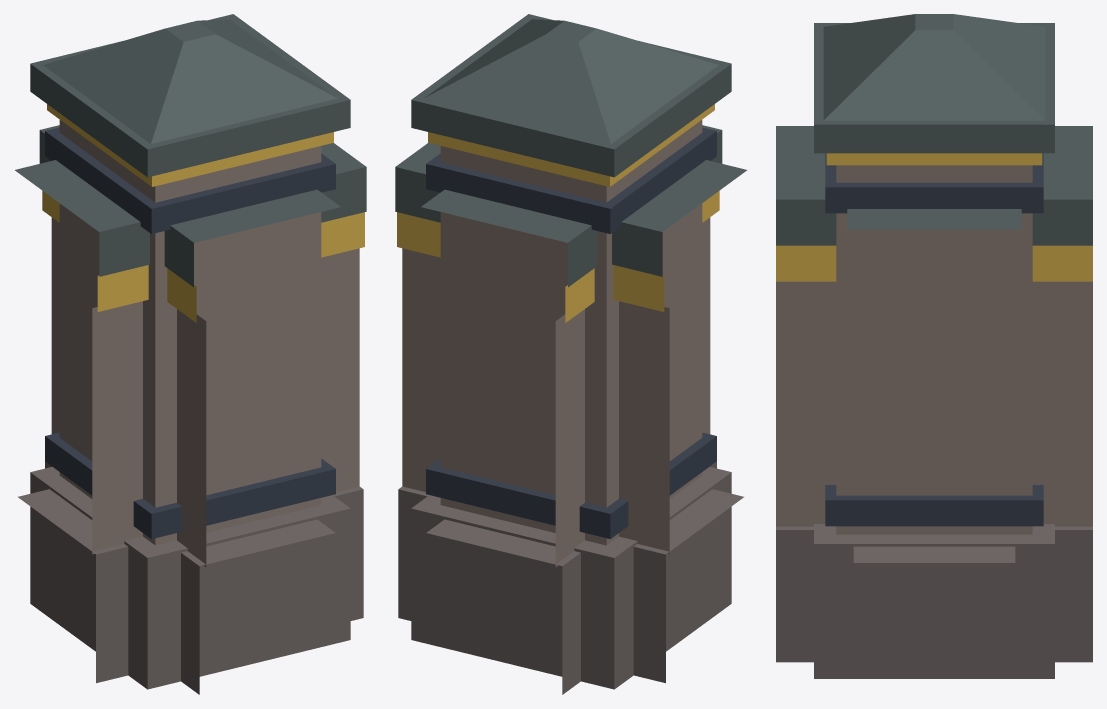
Rendered from stone_wall_cross_low.glb.
3 renders of one model, left to right at view 1: azimuth 30°, elevation 25°; view 2: azimuth 150°, elevation 25°; view 3: azimuth 270°, elevation 25°, orthographic. The views are drawn at different scales.
Visible parts, largest first — view 1: body; view 2: body; view 3: body.
Part boxes in pixels (x1=…): body: x1=15, y1=14, x2=366, y2=694; body: x1=395, y1=14, x2=746, y2=694; body: x1=776, y1=14, x2=1092, y2=678.
Size of the model in its own units: 1 by 2.11 by 1.
